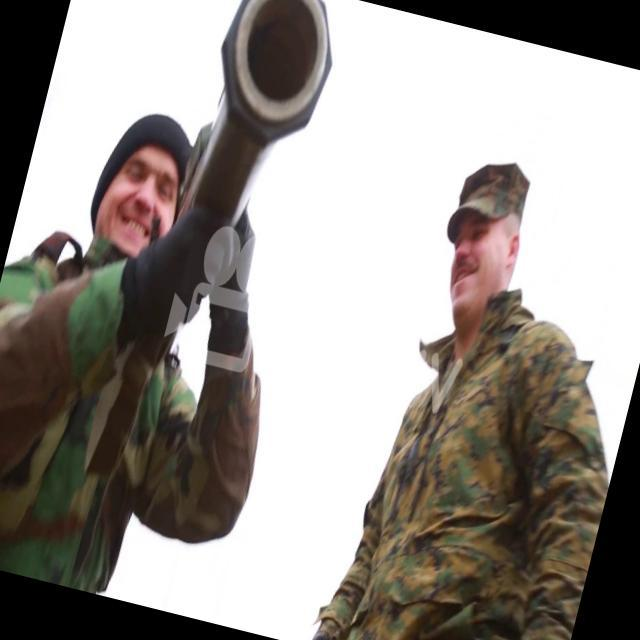rocket: (175, 0, 348, 254)
